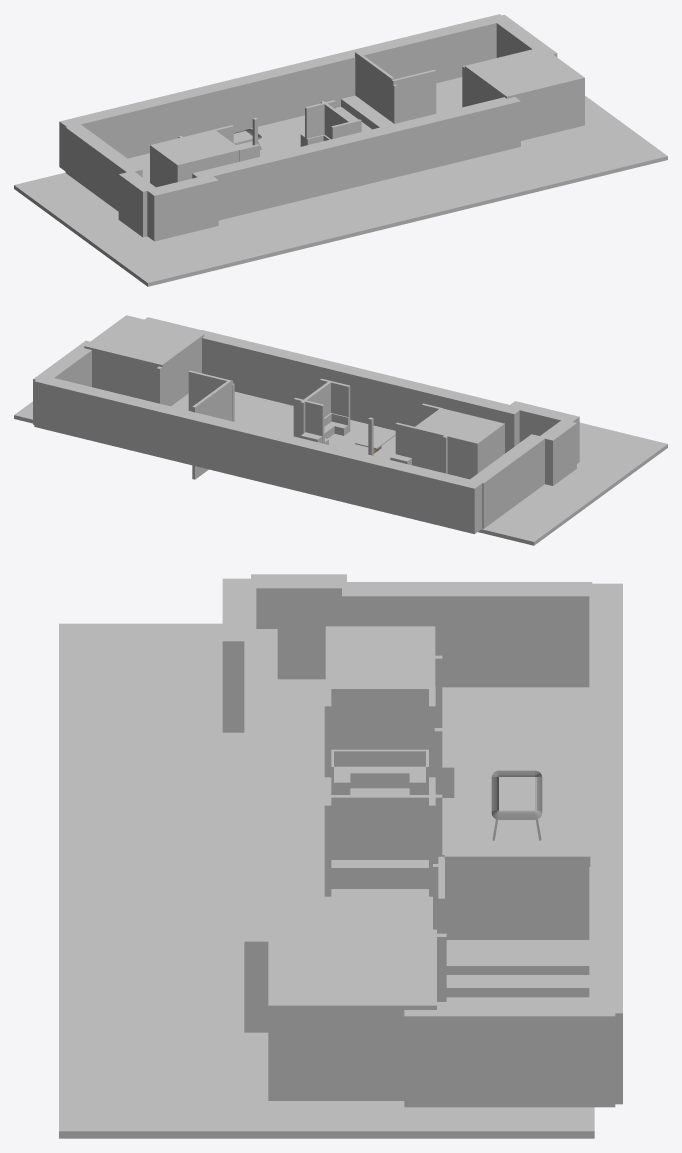
The model's file is TheDenCollisions.obj.
The picture shows the model from 3 angles, top to bottom: view 1: azimuth 30°, elevation 25°; view 2: azimuth 150°, elevation 25°; view 3: azimuth 270°, elevation 25°; orthographic projection. The views are drawn at different scales.
Visible parts, largest first — view 1: Floor, Top, Bottom, Bottom Right, Bottom Left.001, Left, Middle Room, Theatrette - Bottom Left glass wall.002, Theatrette - glass wall.002, Bottom Left, Top Right, Theatrette - Bottom.004 (+3 smaller); view 2: Top, Bottom, Floor, Bottom Right, Middle Room, Left, Bottom Left, Top Right, Bottom Left.001, Theatrette - glass wall.002, Middle right upper wall, Theatrette - Bottom Left glass wall.002 (+5 smaller); view 3: Floor, Bottom Right, Top Right, Left, Top, Middle Room, Bottom, Theatrette - glass wall.002, Middle right wall, Bottom Left, Theatrette - Bottom.006, Bottom Left.001 (+5 smaller).
Boxes of the visible parts, x1=… form: Floor: x1=14, y1=77, x2=667, y2=286; Top: x1=59, y1=14, x2=507, y2=171; Bottom: x1=192, y1=97, x2=520, y2=220; Bottom Right: x1=464, y1=47, x2=584, y2=140; Bottom Left.001: x1=146, y1=176, x2=218, y2=241; Left: x1=65, y1=124, x2=142, y2=211; Middle Room: x1=150, y1=129, x2=241, y2=187; Theatrette - Bottom Left glass wall.002: x1=391, y1=69, x2=436, y2=123; Theatrette - glass wall.002: x1=355, y1=51, x2=394, y2=121; Bottom Left: x1=118, y1=171, x2=155, y2=237; Top Right: x1=491, y1=14, x2=557, y2=57; Theatrette - Bottom.004: x1=341, y1=95, x2=393, y2=129; Top: x1=34, y1=378, x2=482, y2=534; Bottom: x1=198, y1=330, x2=521, y2=453; Floor: x1=14, y1=317, x2=667, y2=545; Bottom Right: x1=84, y1=315, x2=204, y2=406; Middle Room: x1=414, y1=408, x2=504, y2=479; Left: x1=469, y1=434, x2=545, y2=528; Bottom Left: x1=540, y1=420, x2=576, y2=485; Top Right: x1=33, y1=340, x2=91, y2=424; Bottom Left.001: x1=508, y1=401, x2=579, y2=463; Theatrette - glass wall.002: x1=192, y1=380, x2=231, y2=479; Middle right upper wall: x1=293, y1=397, x2=324, y2=443; Theatrette - Bottom Left glass wall.002: x1=188, y1=370, x2=232, y2=420; Floor: x1=59, y1=623, x2=594, y2=1138; Bottom Right: x1=268, y1=929, x2=436, y2=1100; Top Right: x1=404, y1=1002, x2=615, y2=1107; Left: x1=342, y1=582, x2=592, y2=687; Top: x1=589, y1=583, x2=622, y2=1104; Middle Room: x1=325, y1=626, x2=435, y2=749; Bottom: x1=244, y1=629, x2=277, y2=1032; Theatrette - glass wall.002: x1=444, y1=854, x2=590, y2=939; Middle right wall: x1=325, y1=795, x2=434, y2=888; Bottom Left: x1=251, y1=574, x2=346, y2=679; Theatrette - Bottom.006: x1=446, y1=940, x2=589, y2=974; Bottom Left.001: x1=222, y1=578, x2=256, y2=732.
Bounding box in the file's own units: 35.84 × 4.76 × 16.82.
